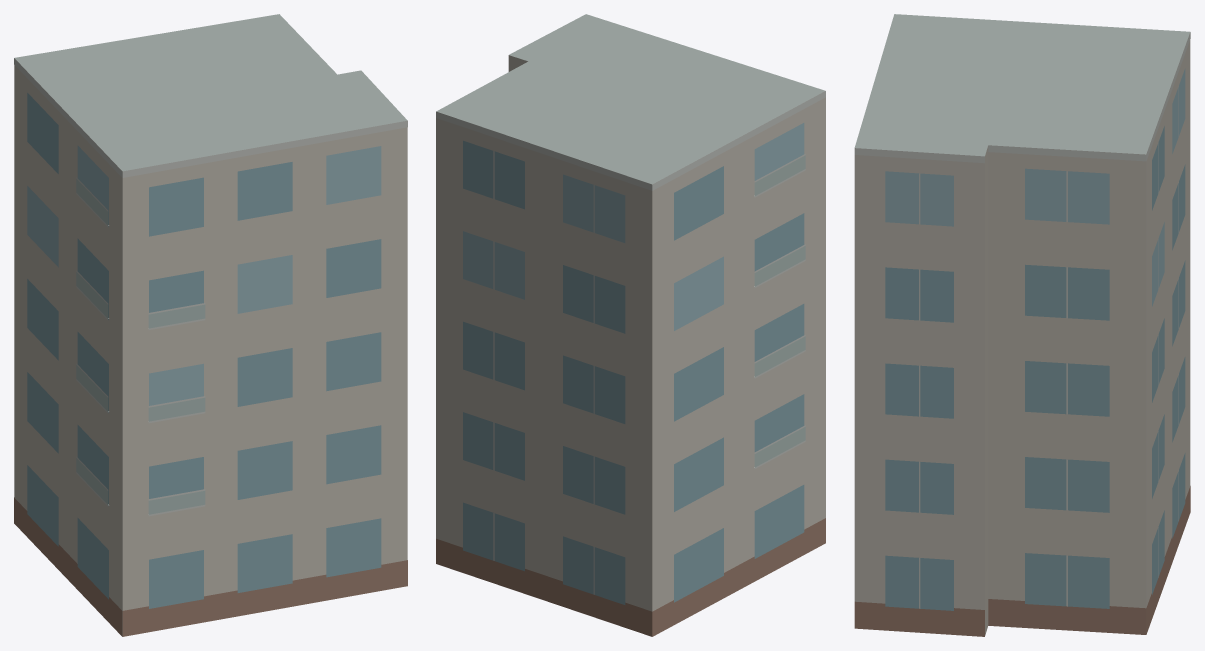
File: survey-upis-33032271.glb
3 renders of one model, left to right at view 1: azimuth 30°, elevation 25°; view 2: azimuth 150°, elevation 25°; view 3: azimuth 270°, elevation 25°, orthographic. The views are drawn at different scales.
Visible parts, largest first — view 1: survey-upis-33032271.tmp; view 2: survey-upis-33032271.tmp; view 3: survey-upis-33032271.tmp.
Part boxes in pixels (x1,y1,x2,y2): survey-upis-33032271.tmp: (14,14,407,636); survey-upis-33032271.tmp: (436,14,825,636); survey-upis-33032271.tmp: (854,14,1190,636).
Size of the model in its own units: 10.88 by 17.1 by 10.85.
